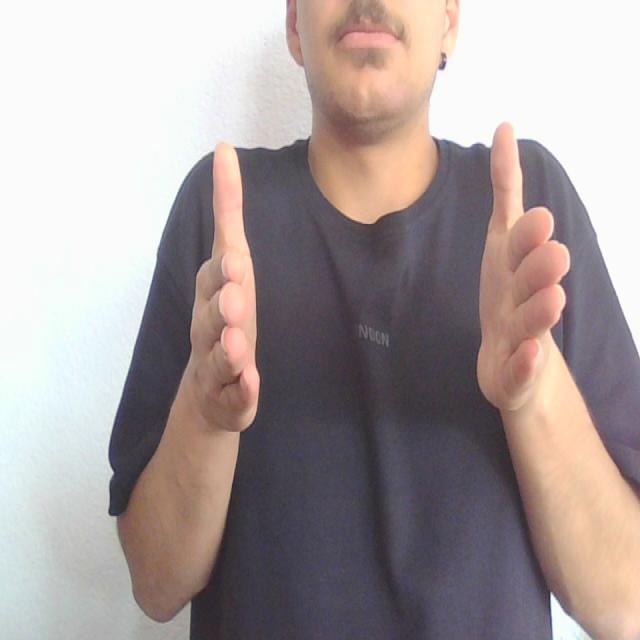Nasil: (180, 115, 571, 449)
